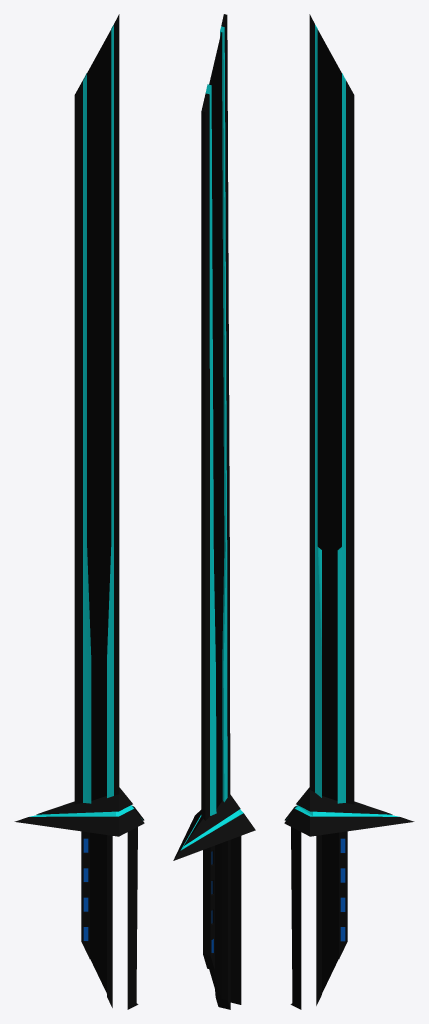
Rendered from Sword01.fbx.
3 views of the same model, side by side, from view 1: azimuth 90°, elevation 25°; view 2: azimuth 150°, elevation 25°; view 3: azimuth 270°, elevation 25° (orthographic).
Visible parts, largest first — view 1: Blade_Hilt, Hilt; view 2: Blade_Hilt, Hilt; view 3: Blade_Hilt, Hilt.
Part boxes in pixels (<box>): Blade_Hilt: <box>74,14,119,1007</box>; Hilt: <box>14,787,144,1009</box>; Blade_Hilt: <box>201,14,230,1009</box>; Hilt: <box>173,794,255,1004</box>; Blade_Hilt: <box>309,14,354,1005</box>; Hilt: <box>284,787,414,1009</box>.
Size of the model in its own units: 6.33 by 98.31 by 11.76.
